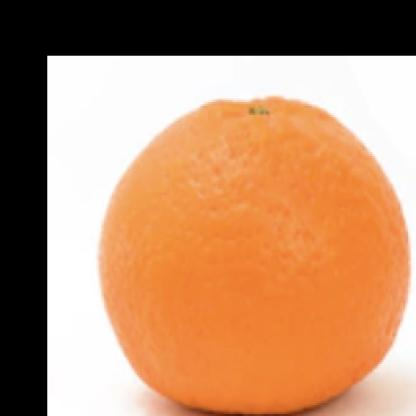rotten: (97, 94, 416, 416)
